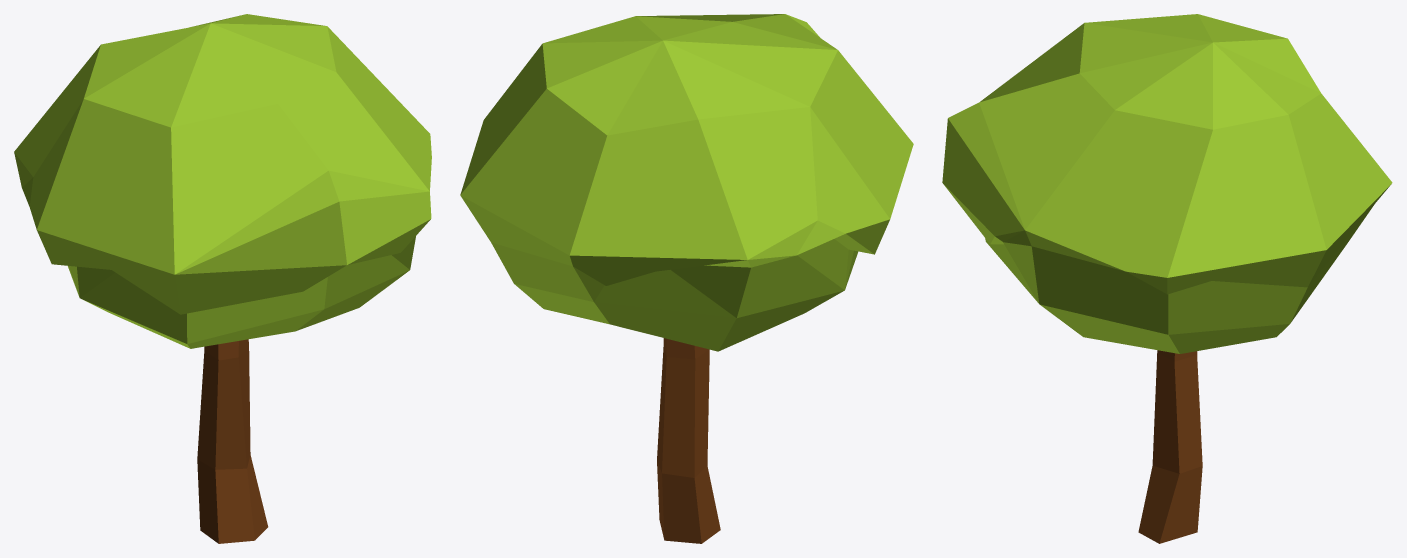
Rendered from Tree_01.FBX.
3 renders of one model, left to right at view 1: azimuth 30°, elevation 25°; view 2: azimuth 150°, elevation 25°; view 3: azimuth 270°, elevation 25°, orthographic. The views are drawn at different scales.
Visible parts, largest first — view 1: Tree_01; view 2: Tree_01; view 3: Tree_01.
Part boxes in pixels (x1,y1,x2,y2): Tree_01: (14, 14, 431, 543); Tree_01: (460, 14, 913, 543); Tree_01: (942, 14, 1392, 543).
Size of the model in its own units: 604 by 720 by 604.
